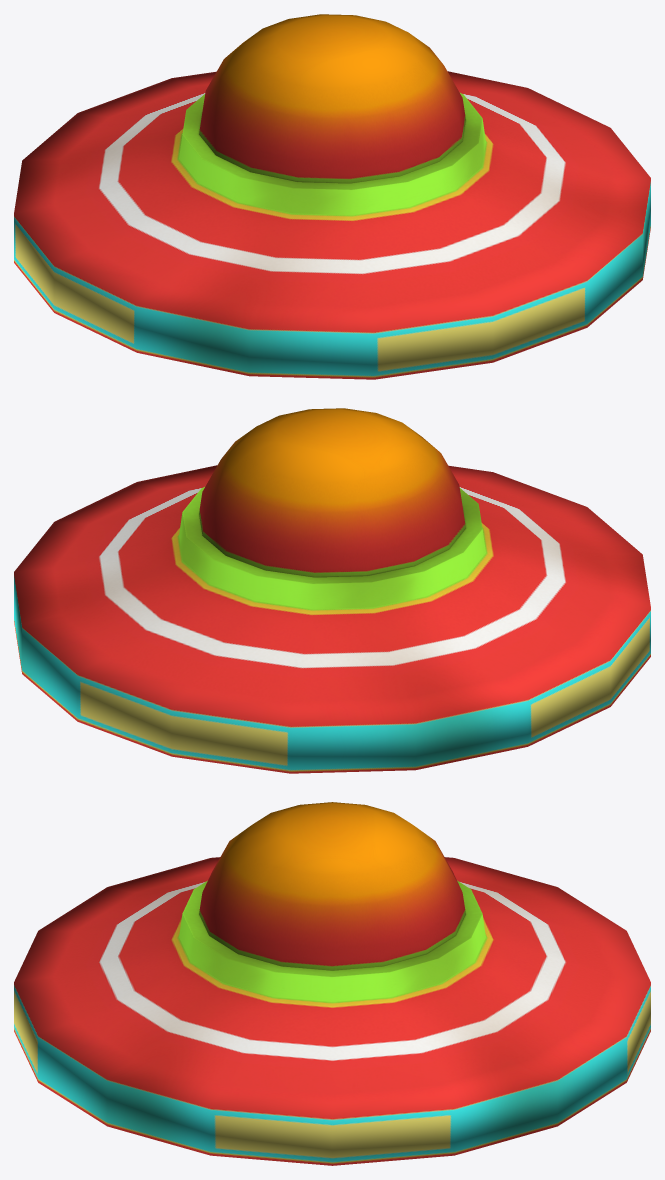
The picture shows the model from 3 angles, top to bottom: view 1: azimuth 30°, elevation 25°; view 2: azimuth 150°, elevation 25°; view 3: azimuth 270°, elevation 25°; orthographic projection.
Visible parts, largest first — view 1: S025; view 2: S025; view 3: S025.
Part boxes in pixels (x1,y1,x2,y2): S025: (14,14,650,379); S025: (14,408,650,773); S025: (14,802,650,1165).
Size of the model in its own units: 55.68 by 26.14 by 55.68.
1 material, 1 textured.
